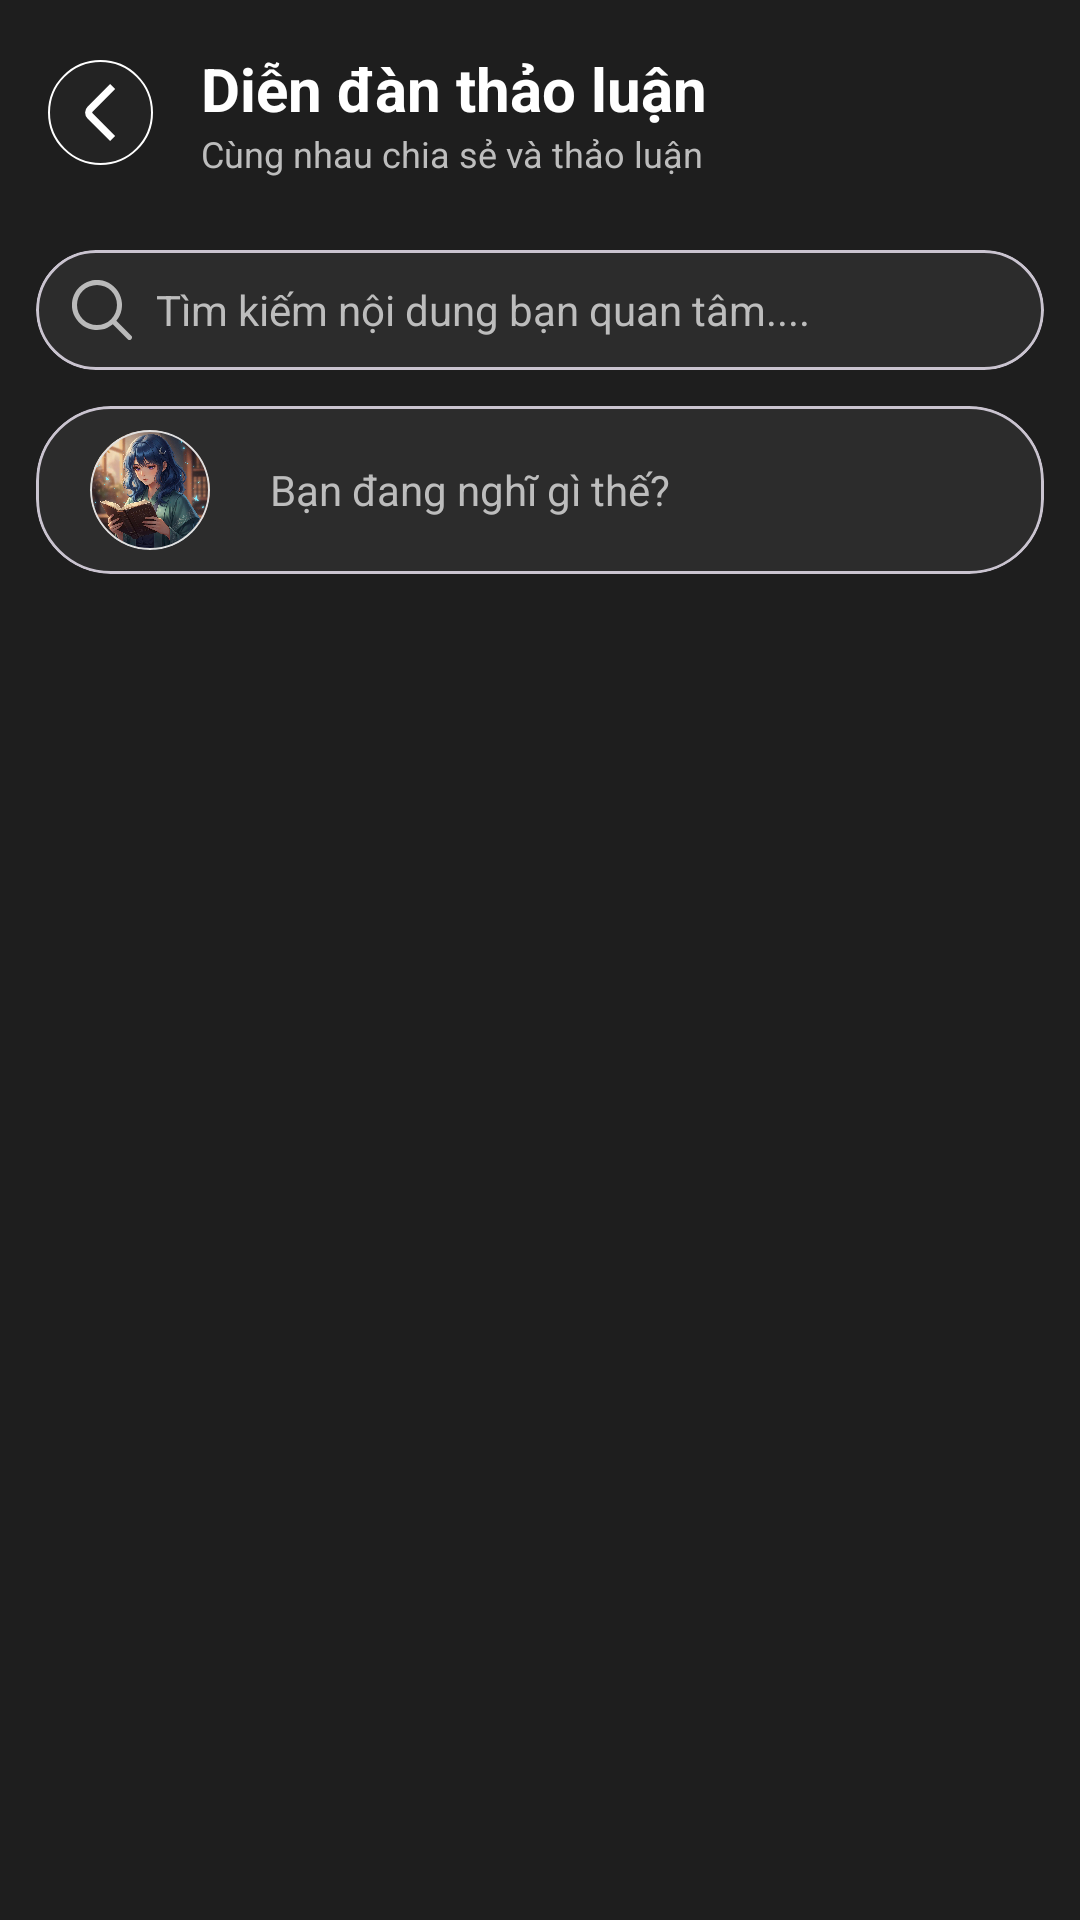

Icons on this 1080x1920 Android screen, each with its box as (left=x1, top=y1, right=x2, bottom=y2):
back: (left=48, top=60, right=153, bottom=165)
search: (left=72, top=280, right=132, bottom=340)
